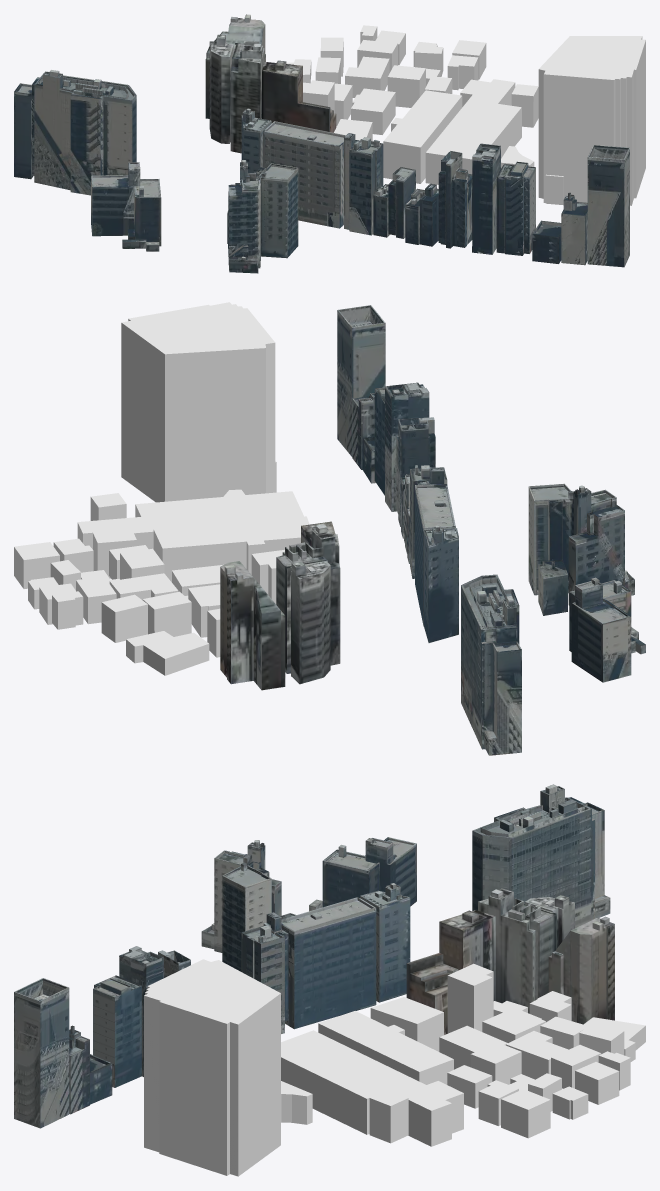
The model's file is data508.glb.
The picture shows the model from 3 angles, top to bottom: view 1: azimuth 30°, elevation 25°; view 2: azimuth 150°, elevation 25°; view 3: azimuth 270°, elevation 25°; orthographic projection. The views are drawn at different scales.
Size of the model in its own units: 197 by 52.19 by 187.
Materials: 2 (1 with a texture image).
